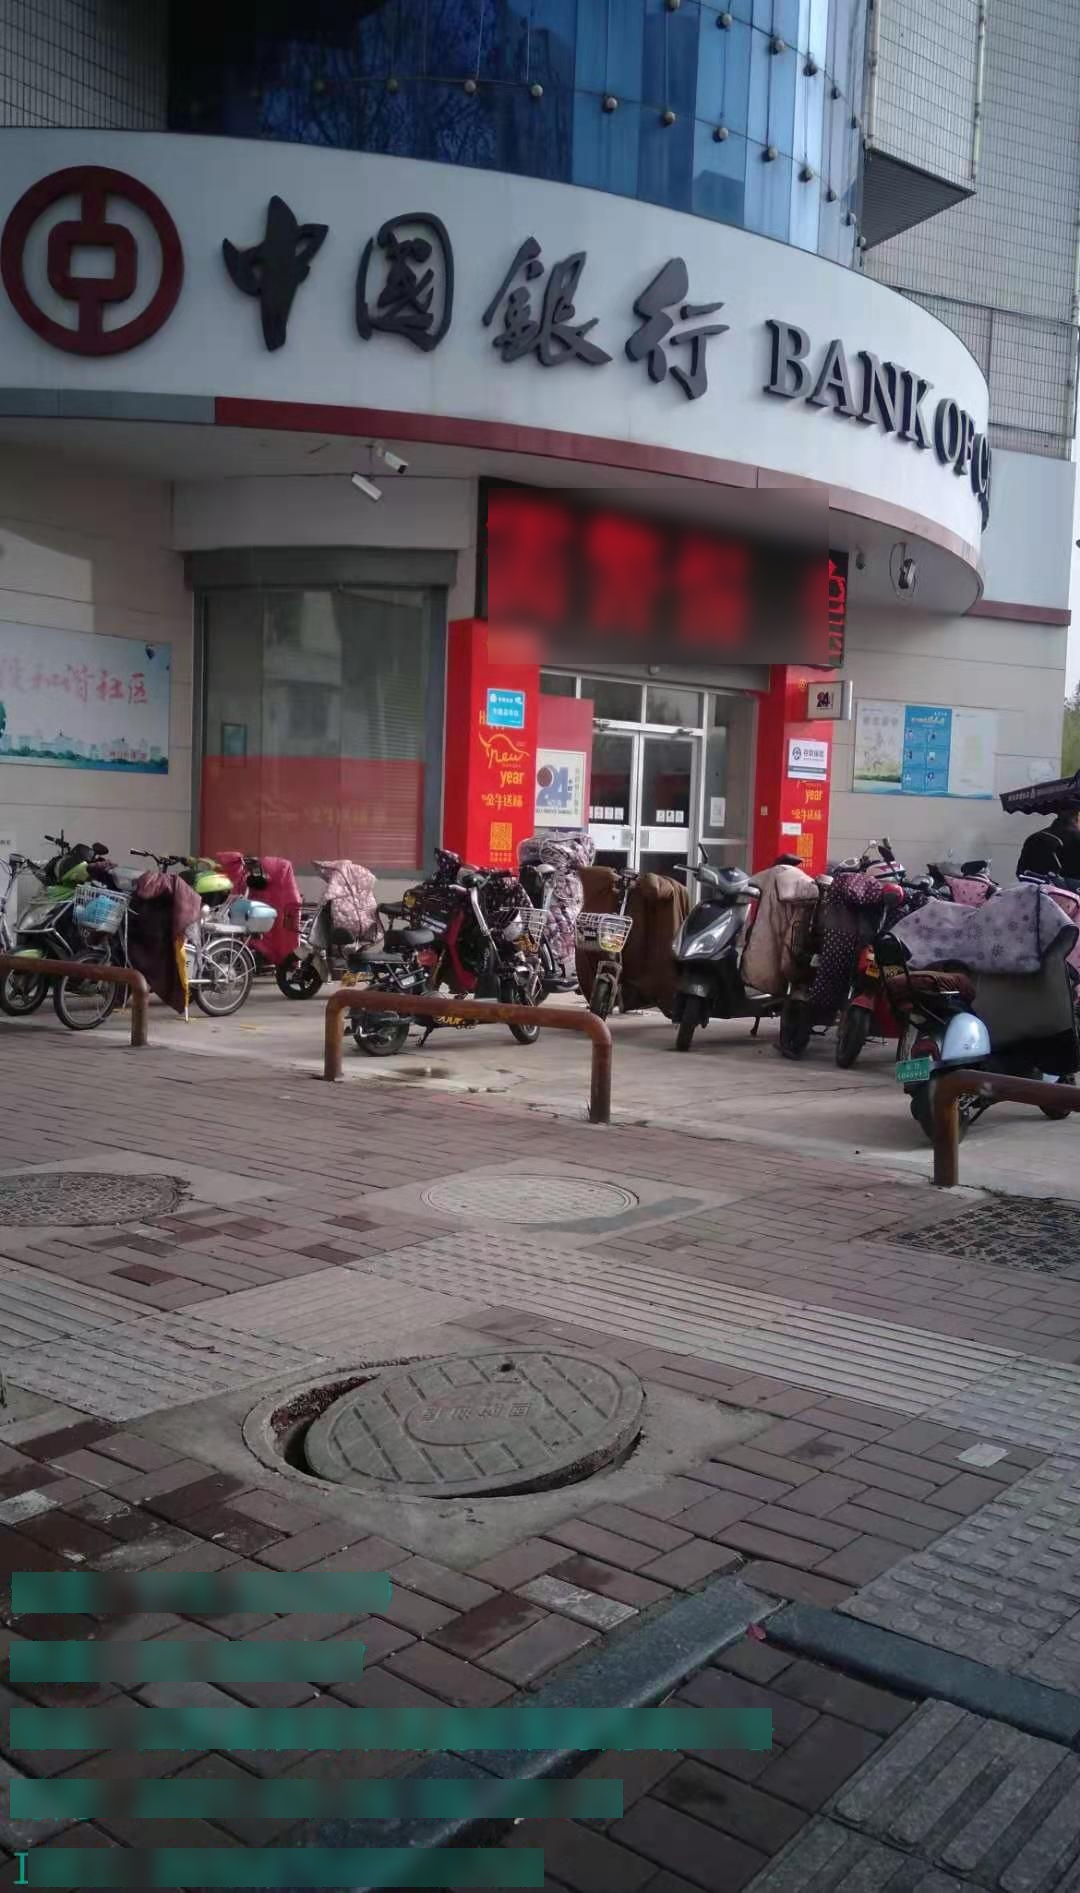good: (421, 1173, 641, 1235), (6, 1169, 198, 1223)
uncovered: (237, 1333, 660, 1500)
